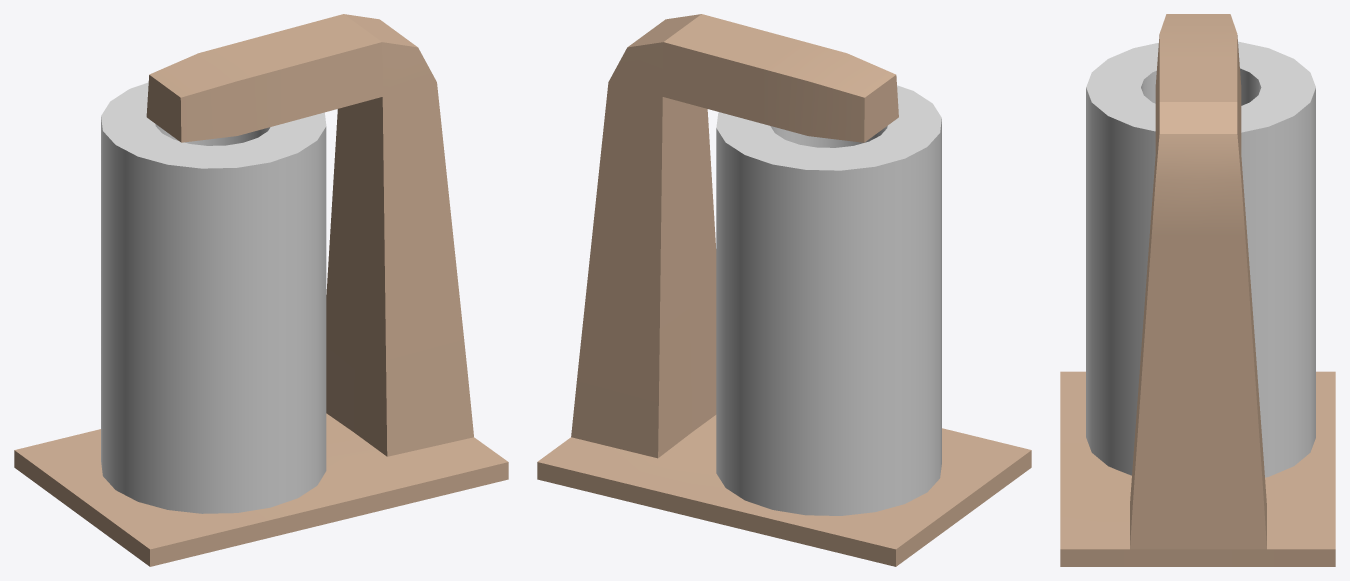
File: MoveablePaperTowel01.fbx
The picture shows the model from 3 angles, left to right: view 1: azimuth 30°, elevation 25°; view 2: azimuth 150°, elevation 25°; view 3: azimuth 270°, elevation 25°; orthographic projection.
Visible parts, largest first — view 1: pCube2; view 2: pCube2; view 3: pCube2.
Boxes of the visible parts, x1,y1,x2,y2 form: pCube2: [14, 14, 508, 566]; pCube2: [537, 14, 1031, 566]; pCube2: [1060, 14, 1335, 566].
Bounding box in the file's own units: 16.25 × 18.22 × 10.66.
